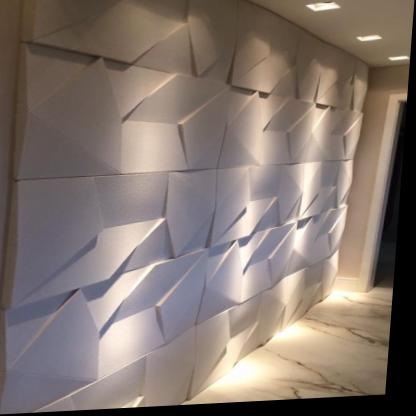Futech tiles: (54, 25, 367, 402)
